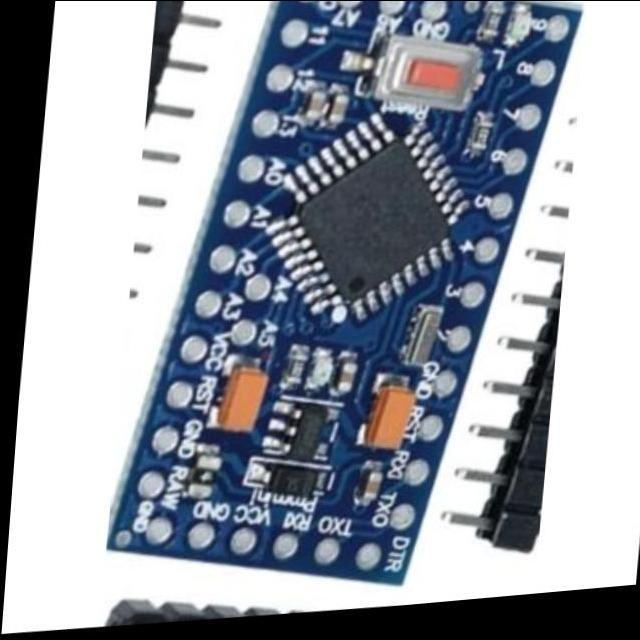Arduino-ProMini: (110, 1, 581, 585)
